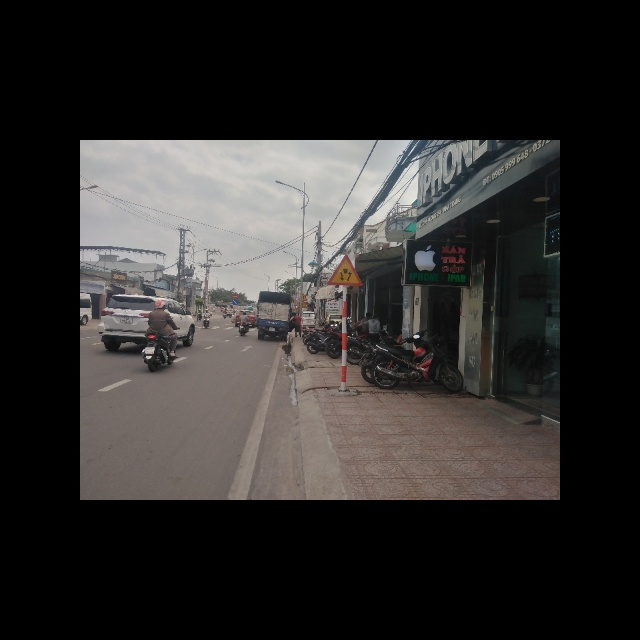Đường đôi: (326, 253, 364, 286)
